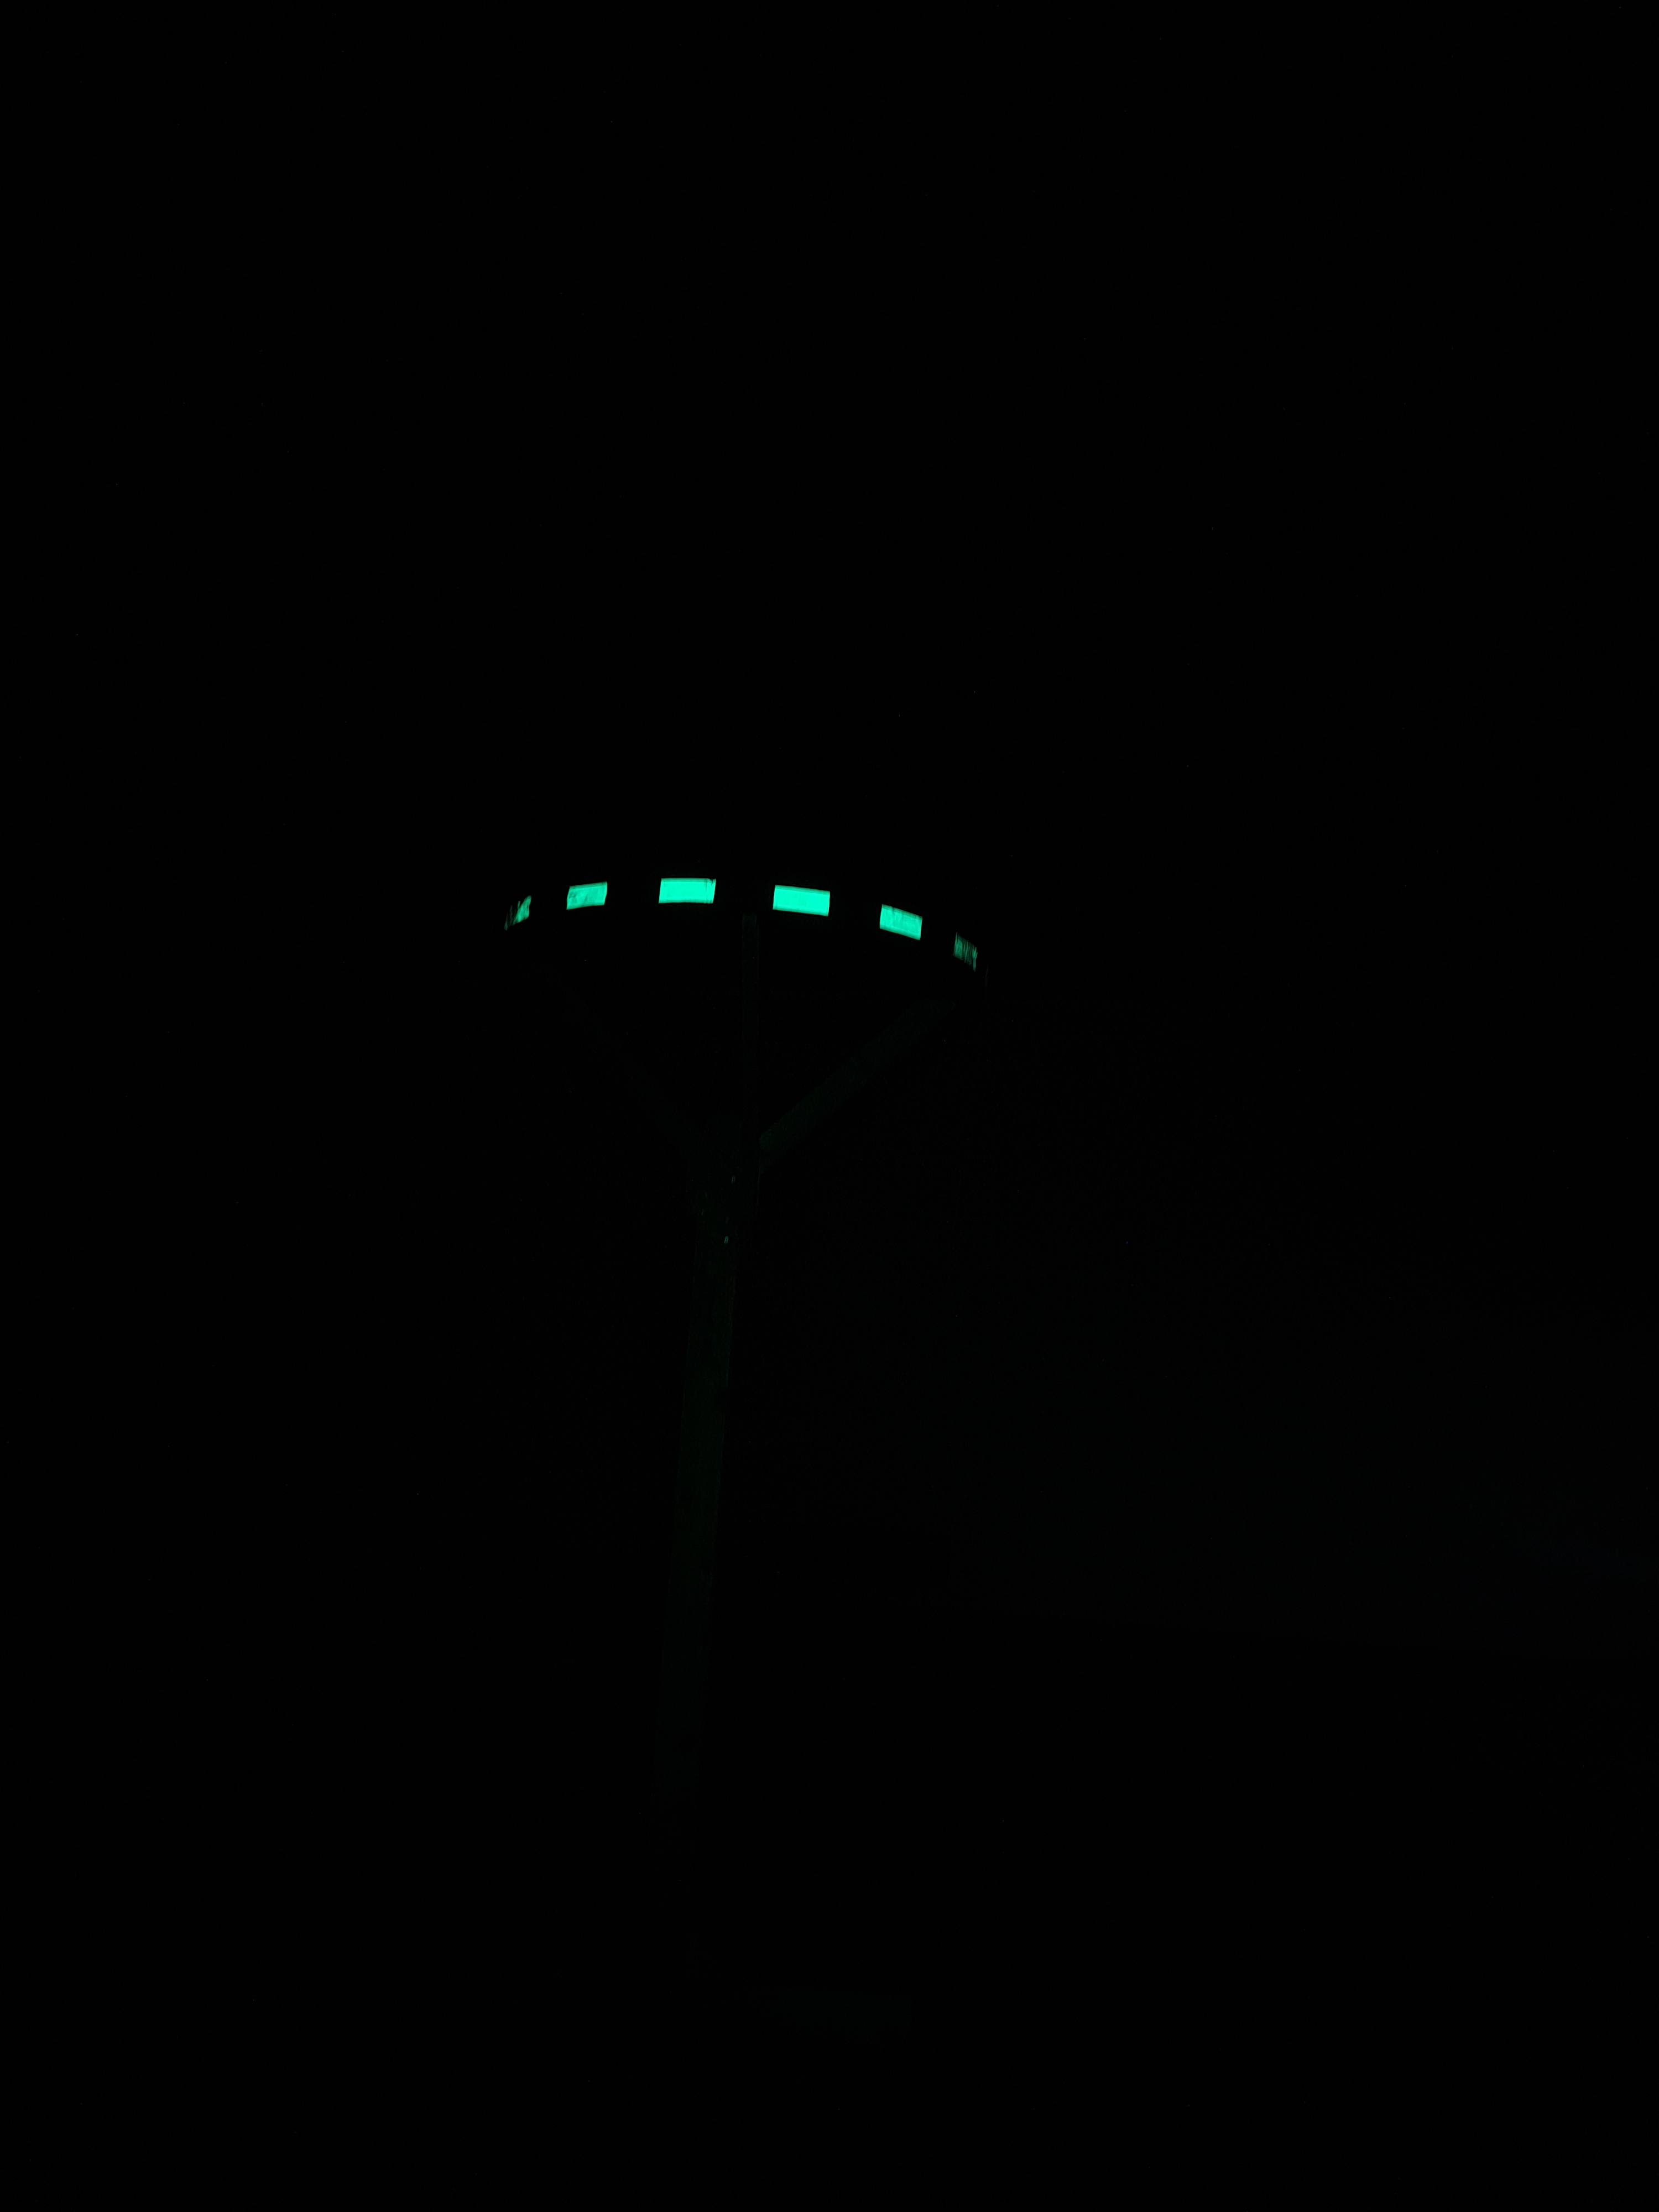hoop: (502, 871, 983, 986)
